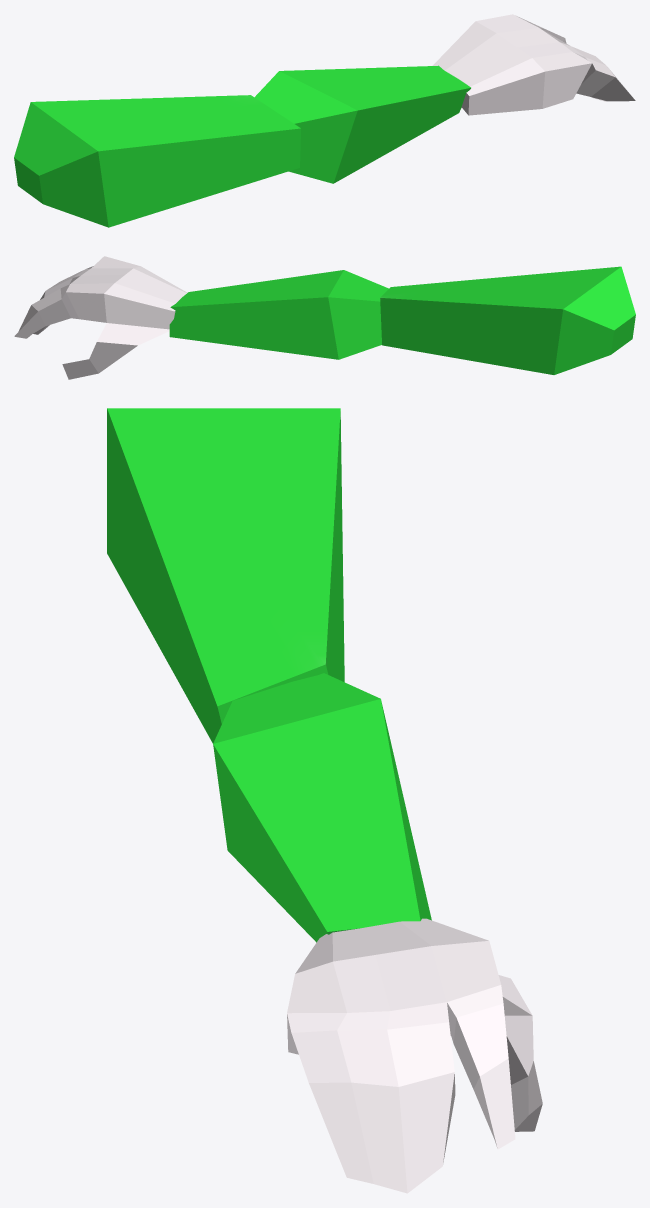
The model's file is brazo dereito.glb.
The picture shows the model from 3 angles, top to bottom: view 1: azimuth 30°, elevation 25°; view 2: azimuth 150°, elevation 25°; view 3: azimuth 270°, elevation 25°; orthographic projection. The views are drawn at different scales.
Visible parts, largest first — view 1: brazo, mano, dedos1, dedos2; view 2: brazo, mano, pulgar1, indice1, indice2, pulgar2, dedos1; view 3: brazo, mano, dedos2, dedos1, indice1, pulgar1, indice2, pulgar2.
Boxes of the visible parts, left/top/right/bottom form: brazo: left=14, top=65, right=470, bottom=227; mano: left=432, top=14, right=592, bottom=115; dedos1: left=541, top=29, right=615, bottom=96; dedos2: left=591, top=70, right=635, bottom=101; brazo: left=169, top=266, right=635, bottom=374; mano: left=66, top=256, right=187, bottom=329; pulgar1: left=89, top=323, right=169, bottom=373; indice1: left=32, top=284, right=78, bottom=325; indice2: left=14, top=305, right=45, bottom=338; pulgar2: left=62, top=359, right=98, bottom=379; dedos1: left=44, top=266, right=93, bottom=297; brazo: left=107, top=408, right=431, bottom=942; mano: left=287, top=918, right=500, bottom=1013; dedos2: left=309, top=1072, right=455, bottom=1193; dedos1: left=287, top=1002, right=454, bottom=1086; indice1: left=447, top=985, right=508, bottom=1089; pulgar1: left=498, top=975, right=533, bottom=1084; indice2: left=473, top=1058, right=515, bottom=1149; pulgar2: left=511, top=1061, right=542, bottom=1131.
Size of the model in its own units: 0.5726 by 0.1418 by 0.1934.
Materials: 1 (1 with a texture image).
